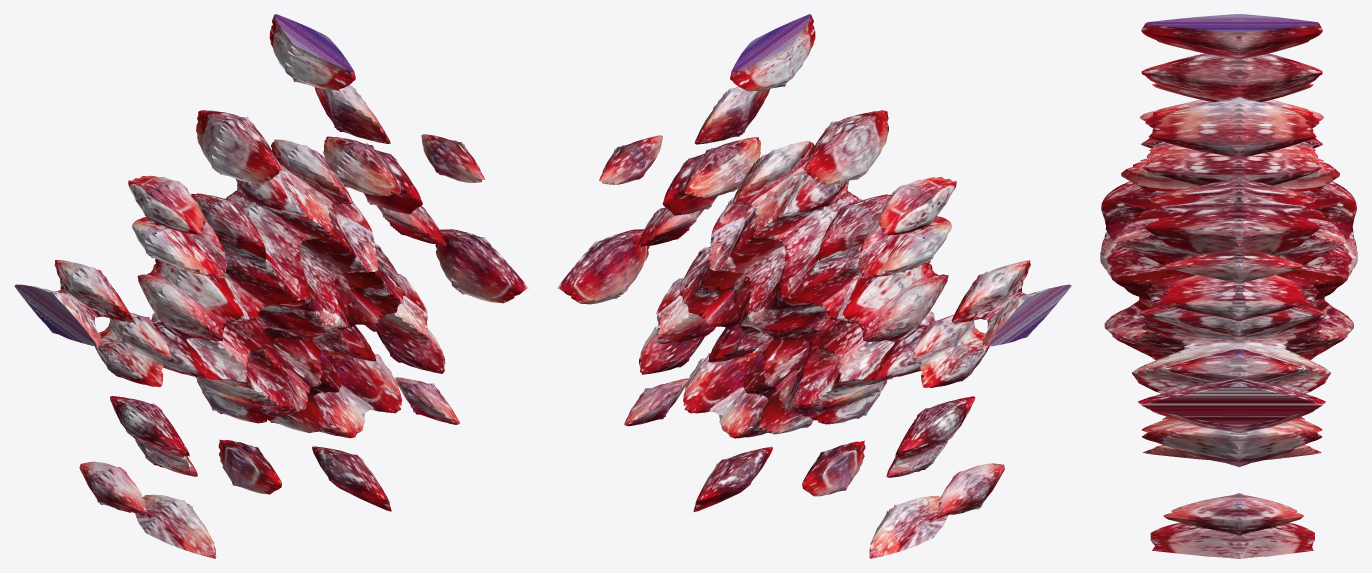
The model's file is pomegranate.glb.
3 views of the same model, side by side, from view 1: azimuth 30°, elevation 25°; view 2: azimuth 150°, elevation 25°; view 3: azimuth 270°, elevation 25° (orthographic). The views are drawn at different scales.
Visible parts, largest first — view 1: Pomegranate; view 2: Pomegranate; view 3: Pomegranate.
Part boxes in pixels (bbox=[...]): Pomegranate: bbox=[14, 14, 528, 558]; Pomegranate: bbox=[557, 14, 1071, 558]; Pomegranate: bbox=[1100, 14, 1357, 558].
Size of the model in its own units: 1.99 by 1.99 by 0.9214.
Materials: 1 (1 with a texture image).
